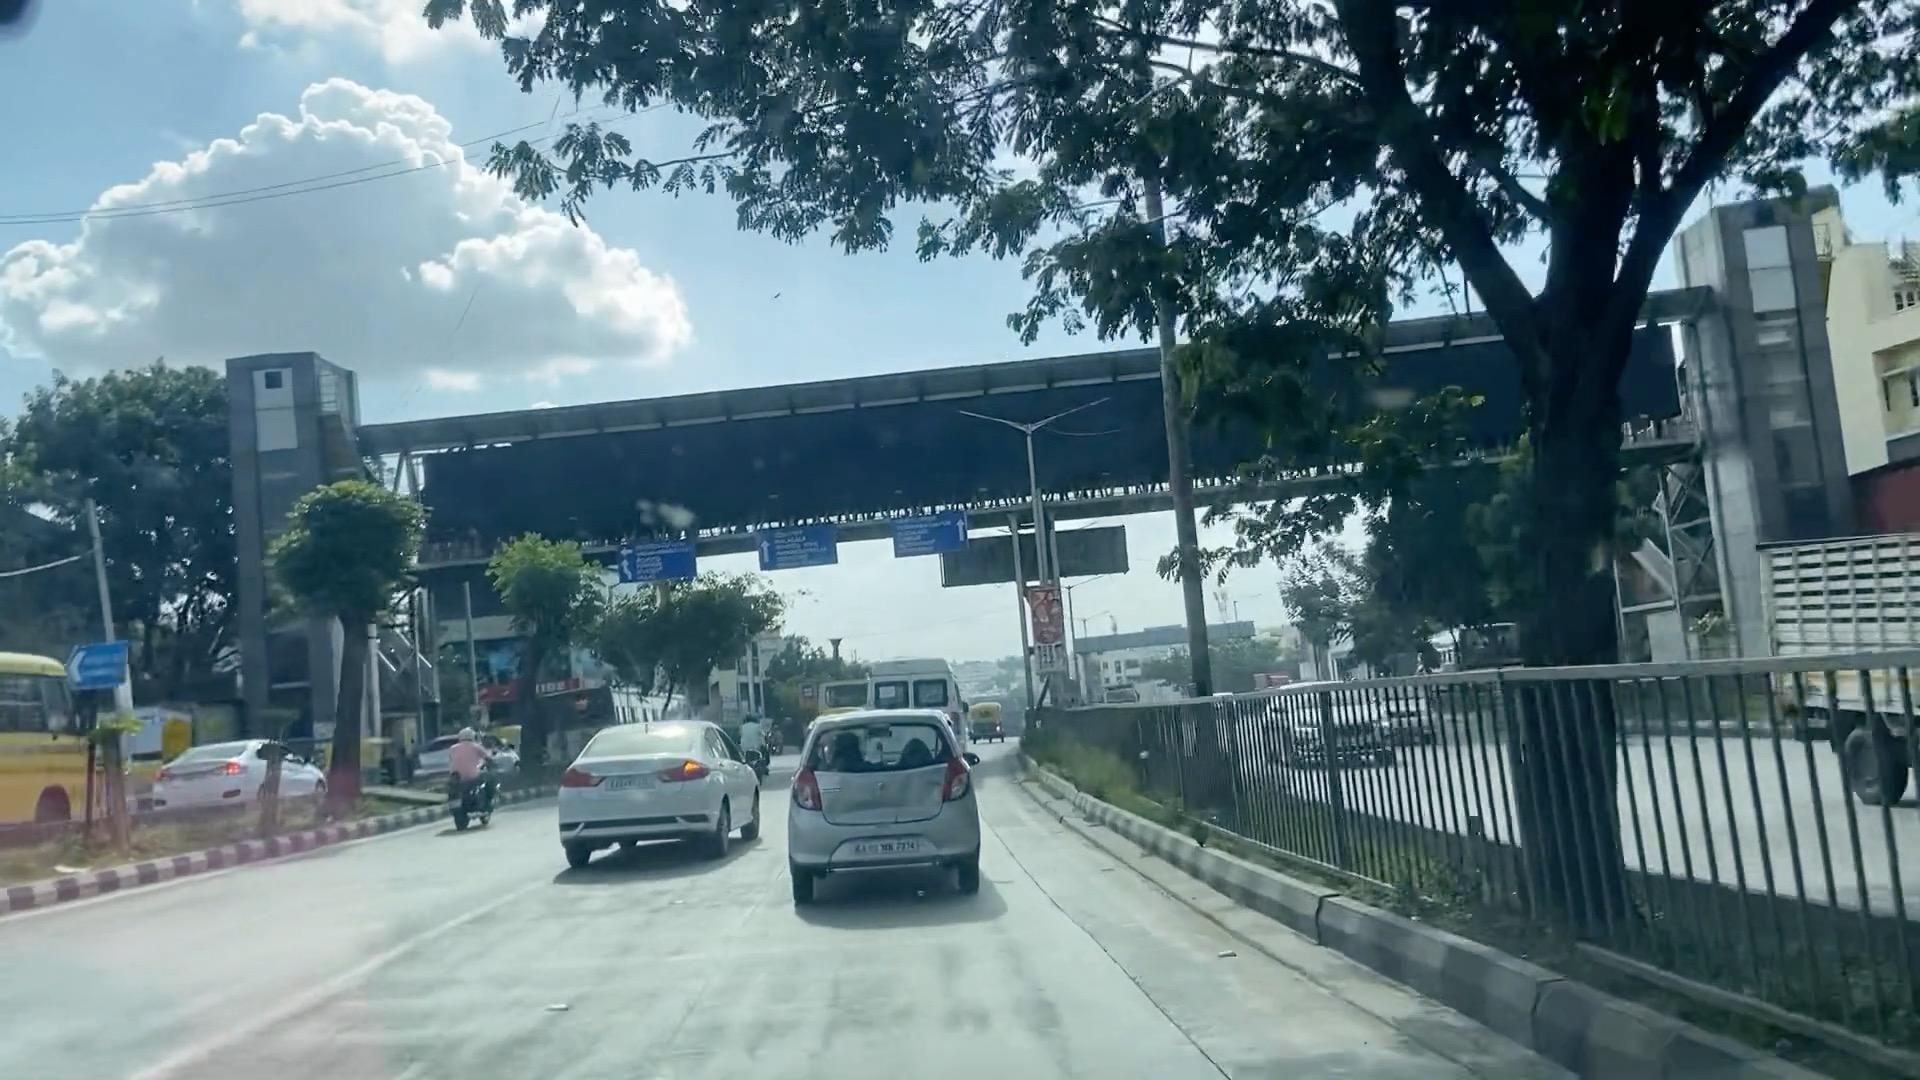LMV: (795, 709, 977, 887), (563, 715, 732, 843)
